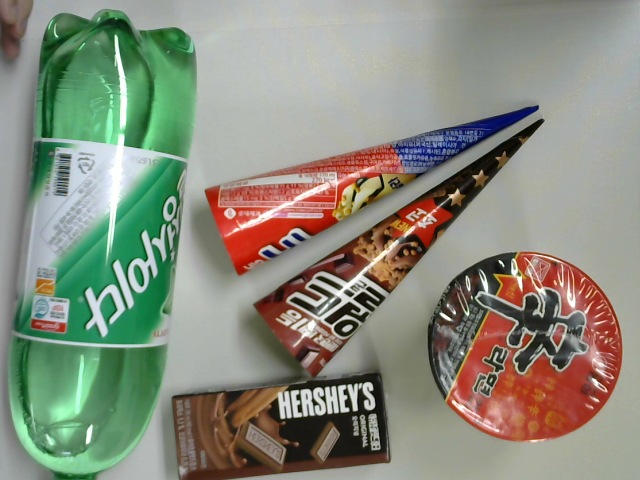Chilseong_Cider_1.5L: (4, 8, 202, 480)
Choco_E_Mong: (173, 370, 391, 480)
Sinramen_small: (430, 252, 625, 443)
World_Cone_Banila: (204, 105, 536, 277)
World_Cone_Choco: (251, 115, 546, 377)
